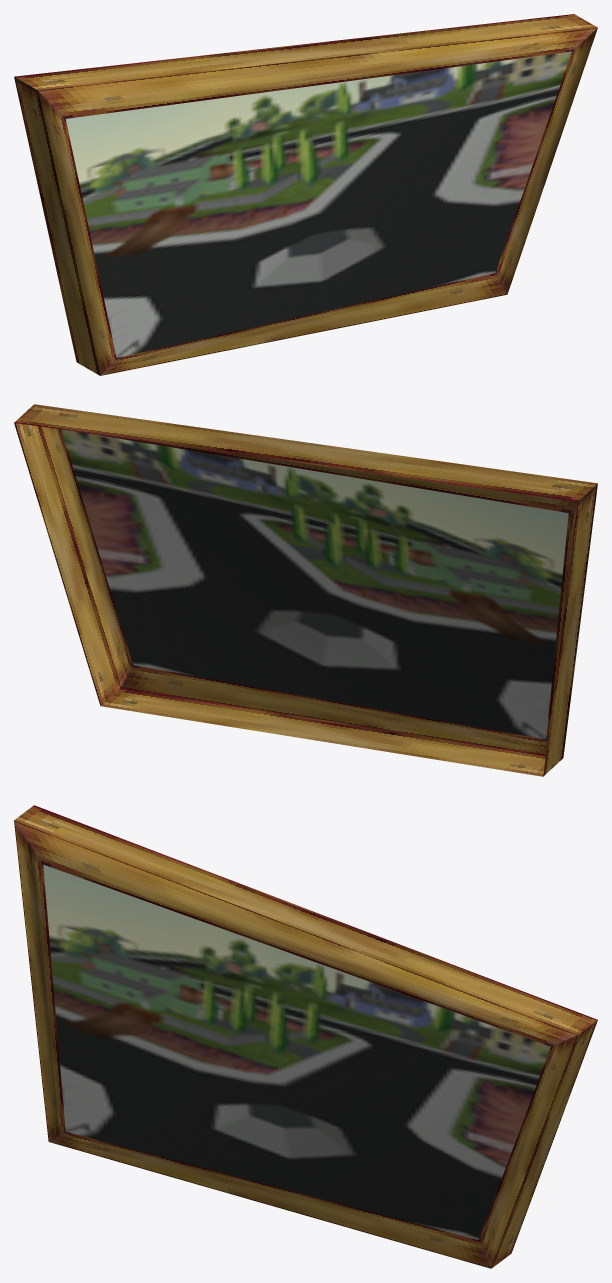
Rendered from Suburban_Neighbourhood_Sign.FBX.
The picture shows the model from 3 angles, top to bottom: view 1: azimuth 30°, elevation 25°; view 2: azimuth 150°, elevation 25°; view 3: azimuth 330°, elevation 25°; orthographic projection. The views are drawn at different scales.
Parts seen in each view (by area): view 1: sign; view 2: sign; view 3: sign.
Part boxes in pixels (bbox=[...]): sign: bbox=[14, 14, 597, 375]; sign: bbox=[14, 404, 597, 776]; sign: bbox=[14, 805, 597, 1268].
Bounding box in the file's own units: 349 × 190 × 39.45.
